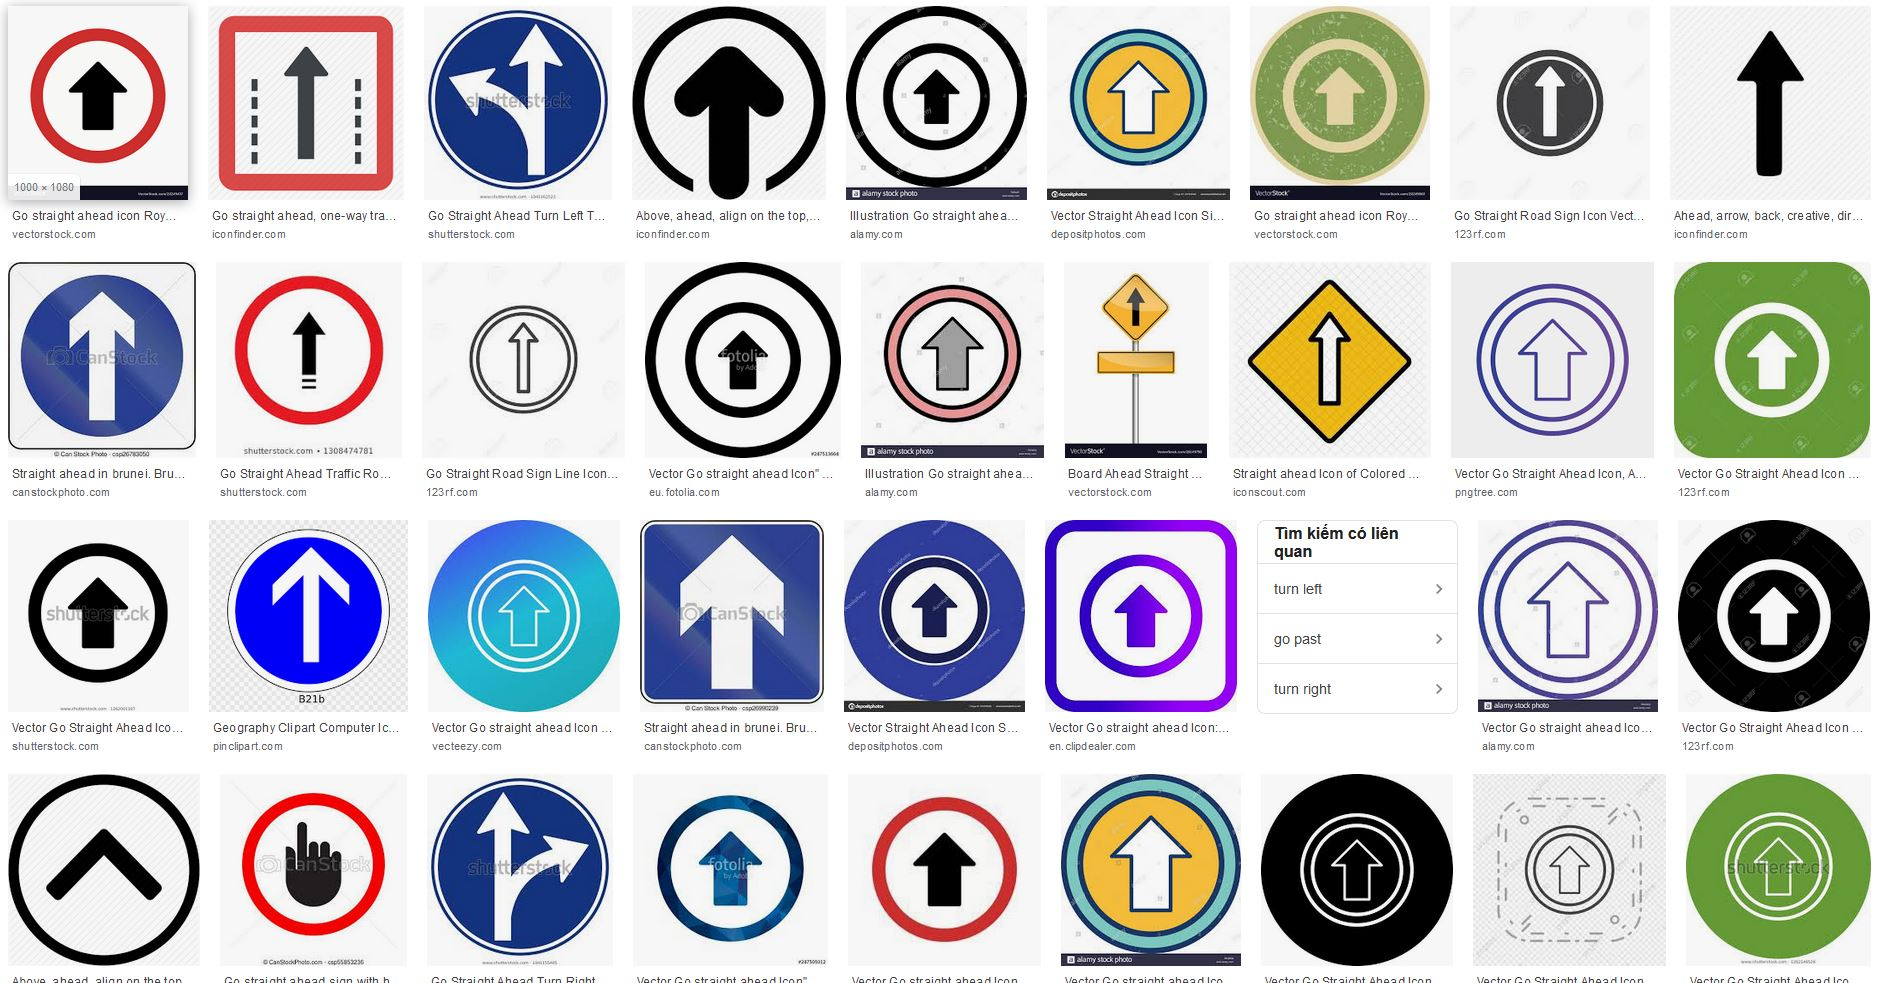go_straight: (677, 534, 791, 691), (672, 45, 786, 201), (64, 285, 146, 425), (1734, 22, 1807, 179), (269, 543, 353, 667), (1105, 814, 1192, 914), (1525, 559, 1611, 658), (1514, 314, 1591, 402), (916, 313, 993, 396), (282, 44, 333, 163), (692, 829, 764, 911), (61, 573, 132, 653), (1104, 59, 1174, 140), (910, 830, 979, 911), (1305, 309, 1358, 411), (64, 56, 130, 135), (1110, 581, 1173, 652), (709, 326, 774, 392), (1328, 835, 1386, 906), (1743, 324, 1799, 395), (285, 306, 331, 392), (496, 581, 552, 650), (1749, 835, 1807, 898), (1313, 64, 1368, 130), (1748, 581, 1803, 647), (911, 64, 964, 131), (907, 579, 961, 642), (1530, 62, 1571, 141), (505, 320, 543, 397), (1548, 842, 1592, 900), (1121, 282, 1148, 329)
